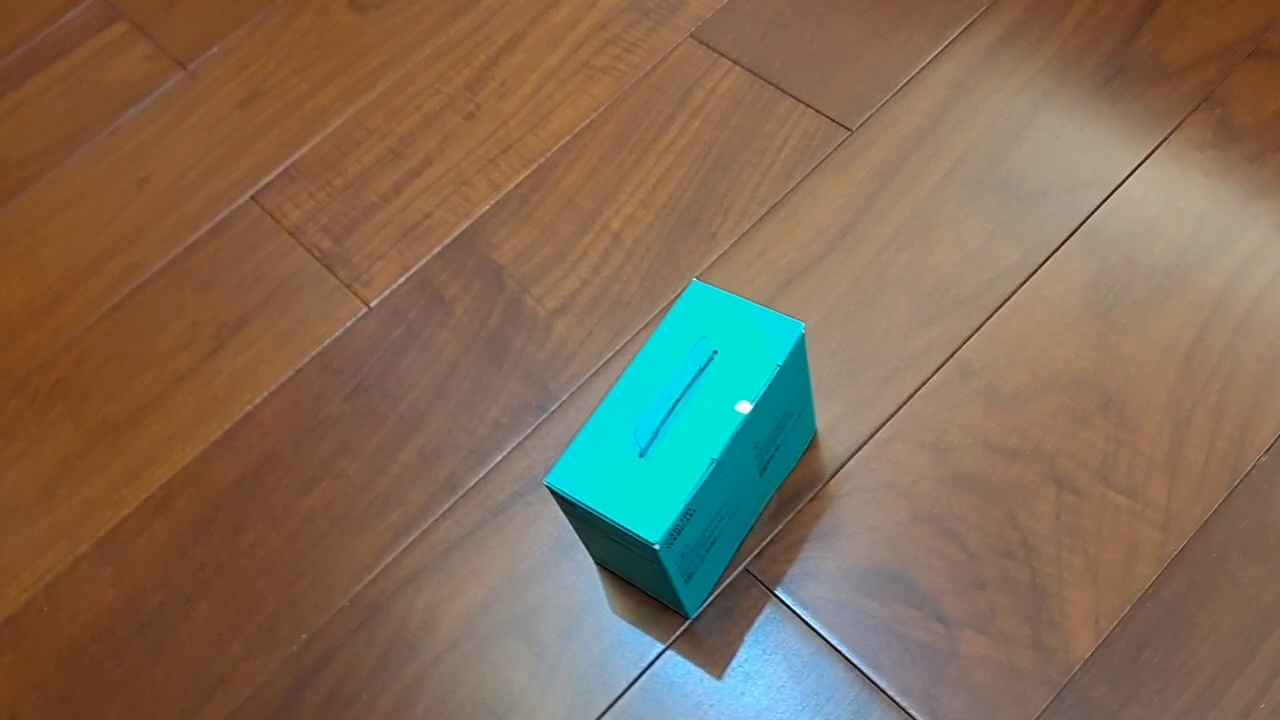webcam: (538, 274, 820, 623)
